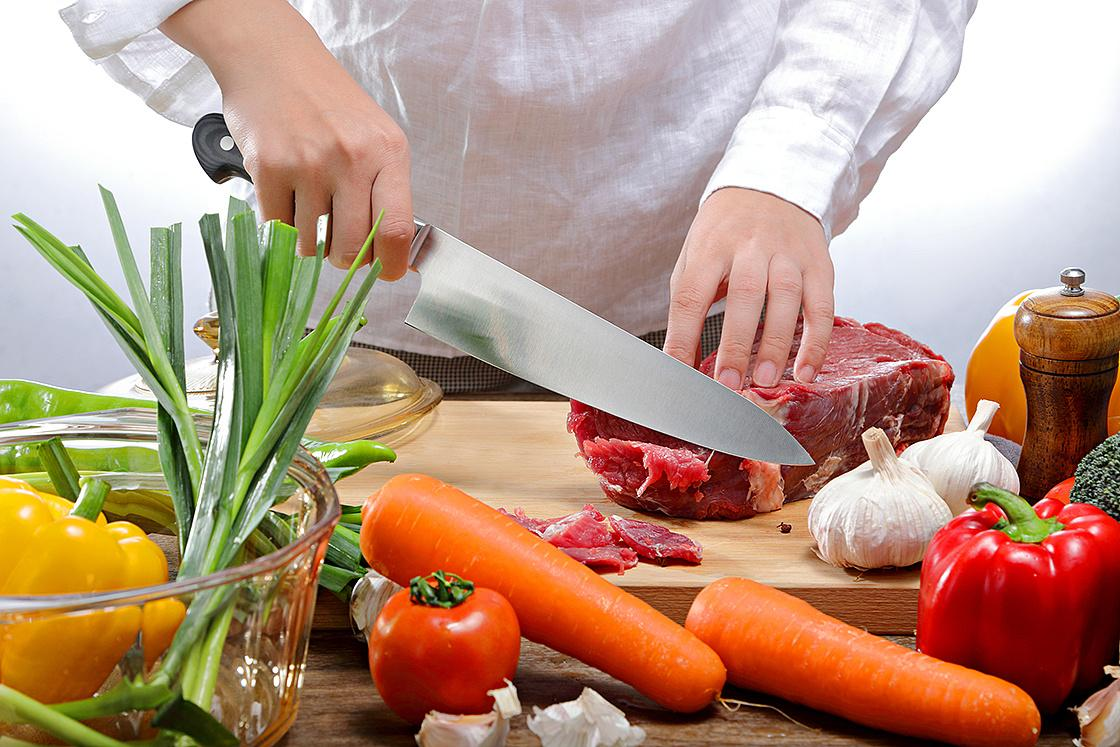knife: (404, 198, 836, 496)
